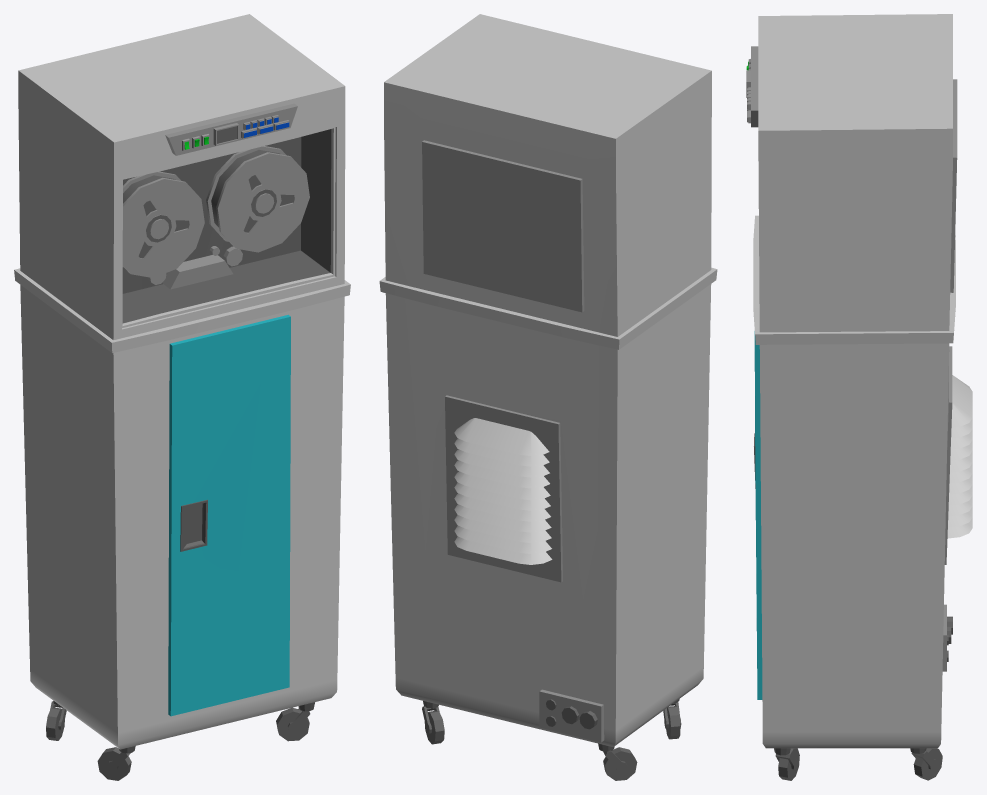
File: Grabadora01.fbx
3 views of the same model, side by side, from view 1: azimuth 30°, elevation 25°; view 2: azimuth 150°, elevation 25°; view 3: azimuth 270°, elevation 25° (orthographic).
Parts seen in each view (by area): view 1: Grabadora01; view 2: Grabadora01; view 3: Grabadora01.
Boxes of the visible parts, bbox=[...] form: Grabadora01: bbox=[14, 14, 350, 780]; Grabadora01: bbox=[379, 14, 717, 780]; Grabadora01: bbox=[746, 14, 972, 780].
Bounding box in the file's own units: 83.64 × 219 × 67.4.
